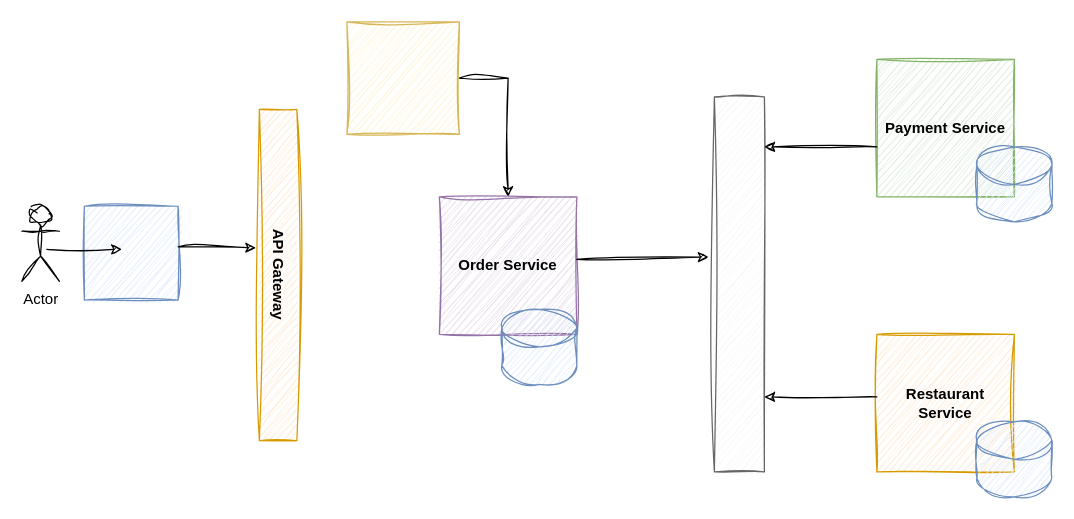
Image size: 1074x519. Some labels were removed from this diagram. Each missing label, with the centre of its shape:
Angular Application: (130,252)
Customer Service: (402,77)
Kaka: (738,284)
